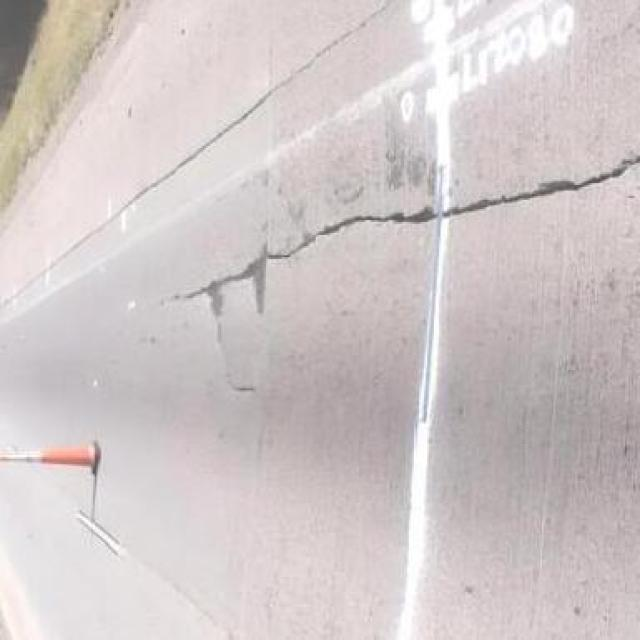Crack: (235, 208, 362, 288), (505, 150, 640, 218), (356, 175, 506, 234), (155, 265, 239, 313)
